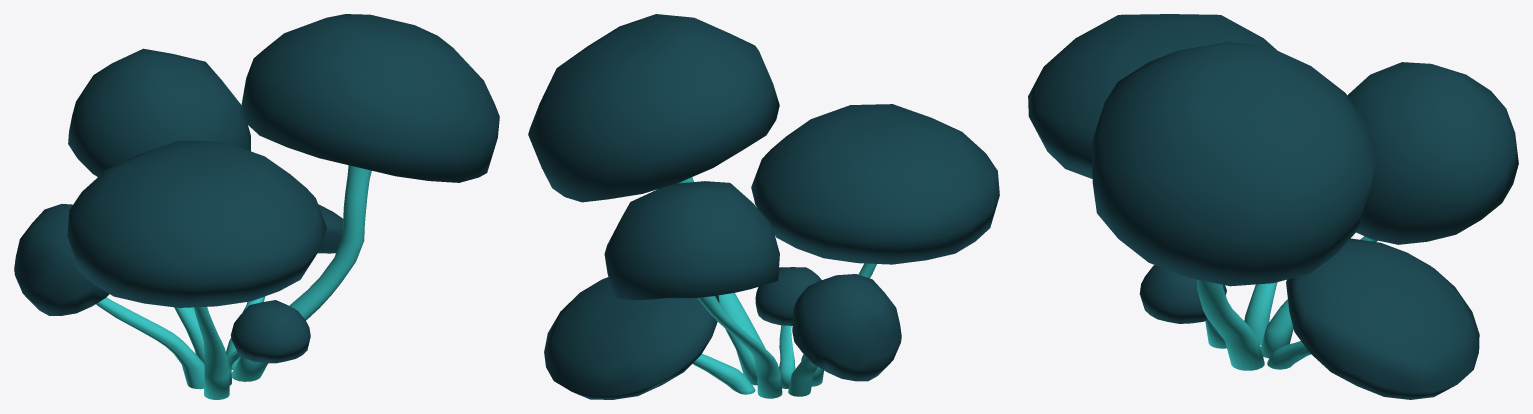
Rendered from mushroomCaveCluster01_001.fbx.
3 views of the same model, side by side, from view 1: azimuth 30°, elevation 25°; view 2: azimuth 150°, elevation 25°; view 3: azimuth 270°, elevation 25° (orthographic). The views are drawn at different scales.
Parts seen in each view (by area): view 1: Icosphere.001, Icosphere, Icosphere.002, Cylinder.007, Icosphere.004, Cylinder.009; view 2: Icosphere.001, Icosphere, Icosphere.002, Cylinder.009, Cylinder.007, Icosphere.004; view 3: Icosphere.001, Icosphere.002, Cylinder.009, Icosphere, Icosphere.004, Cylinder.007.
Part boxes in pixels (<box>): Icosphere.001: <box>231,14,499,381</box>; Icosphere: <box>67,140,326,399</box>; Icosphere.002: <box>68,48,250,364</box>; Cylinder.007: <box>14,204,204,389</box>; Icosphere.004: <box>227,300,310,385</box>; Cylinder.009: <box>226,204,343,369</box>; Icosphere.001: <box>528,14,779,385</box>; Icosphere: <box>751,104,999,386</box>; Icosphere.002: <box>604,181,782,398</box>; Cylinder.009: <box>544,277,755,399</box>; Cylinder.007: <box>788,274,901,396</box>; Icosphere.004: <box>755,267,821,388</box>; Icosphere.001: <box>1092,42,1378,370</box>; Icosphere.002: <box>1260,62,1518,358</box>; Cylinder.009: <box>1267,238,1479,399</box>; Icosphere: <box>1028,14,1277,348</box>; Icosphere.004: <box>1139,265,1226,323</box>; Cylinder.007: <box>1244,282,1277,344</box>.
Bounding box in the file's own units: 449 × 339 × 411.
